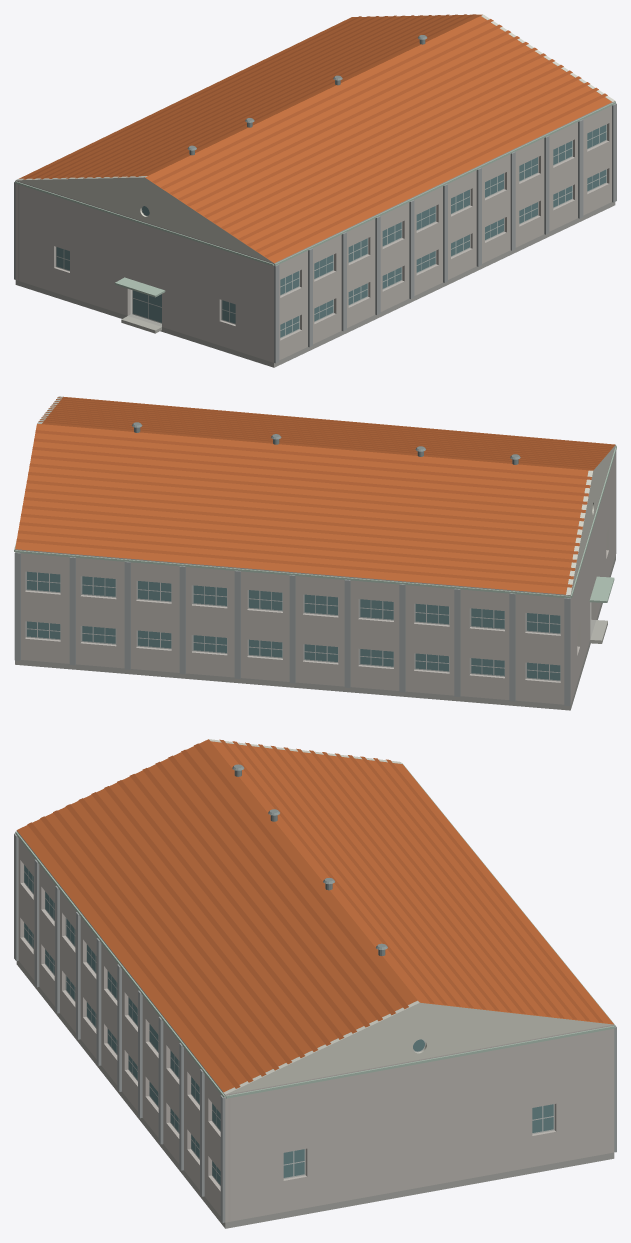
3 views of the same model, one above another, from view 1: azimuth 30°, elevation 25°; view 2: azimuth 150°, elevation 25°; view 3: azimuth 270°, elevation 25° (orthographic). The views are drawn at different scales.
Parts seen in each view (by area): view 1: gym__roof, gym__wall, gym__roof-rib, gym__glass, gym__cream, gym__pier, gym__floor-structure, gym__frame, gym__trim; view 2: gym__roof, gym__wall, gym__roof-rib, gym__glass, gym__pier, gym__frame, gym__floor-structure, gym__trim, gym__cream; view 3: gym__roof, gym__wall, gym__roof-rib, gym__cream, gym__pier, gym__glass, gym__floor-structure, gym__trim, gym__frame.
Part boxes in pixels (<box>): gym__roof: <box>19,14,611,263</box>; gym__wall: <box>15,101,615,362</box>; gym__roof-rib: <box>23,14,607,257</box>; gym__glass: <box>56,125,606,337</box>; gym__cream: <box>16,14,614,262</box>; gym__pier: <box>14,103,616,363</box>; gym__floor-structure: <box>15,202,615,367</box>; gym__frame: <box>56,124,606,338</box>; gym__trim: <box>15,101,615,297</box>; gym__roof: <box>15,396,615,594</box>; gym__wall: <box>15,445,615,704</box>; gym__roof-rib: <box>16,397,614,587</box>; gym__glass: <box>27,571,560,680</box>; gym__pier: <box>14,451,616,705</box>; gym__frame: <box>25,571,560,681</box>; gym__floor-structure: <box>15,555,615,710</box>; gym__trim: <box>14,445,616,602</box>; gym__cream: <box>37,396,615,594</box>; gym__roof: <box>17,739,613,1092</box>; gym__wall: <box>16,830,614,1222</box>; gym__roof-rib: <box>27,739,603,1088</box>; gym__cream: <box>209,739,613,1094</box>; gym__pier: <box>14,833,616,1222</box>; gym__glass: <box>24,865,553,1184</box>; gym__floor-structure: <box>16,960,614,1228</box>; gym__trim: <box>15,763,615,1098</box>; gym__frame: <box>24,865,554,1185</box>.
Size of the model in its own units: 45.89 by 12.87 by 35.04.
